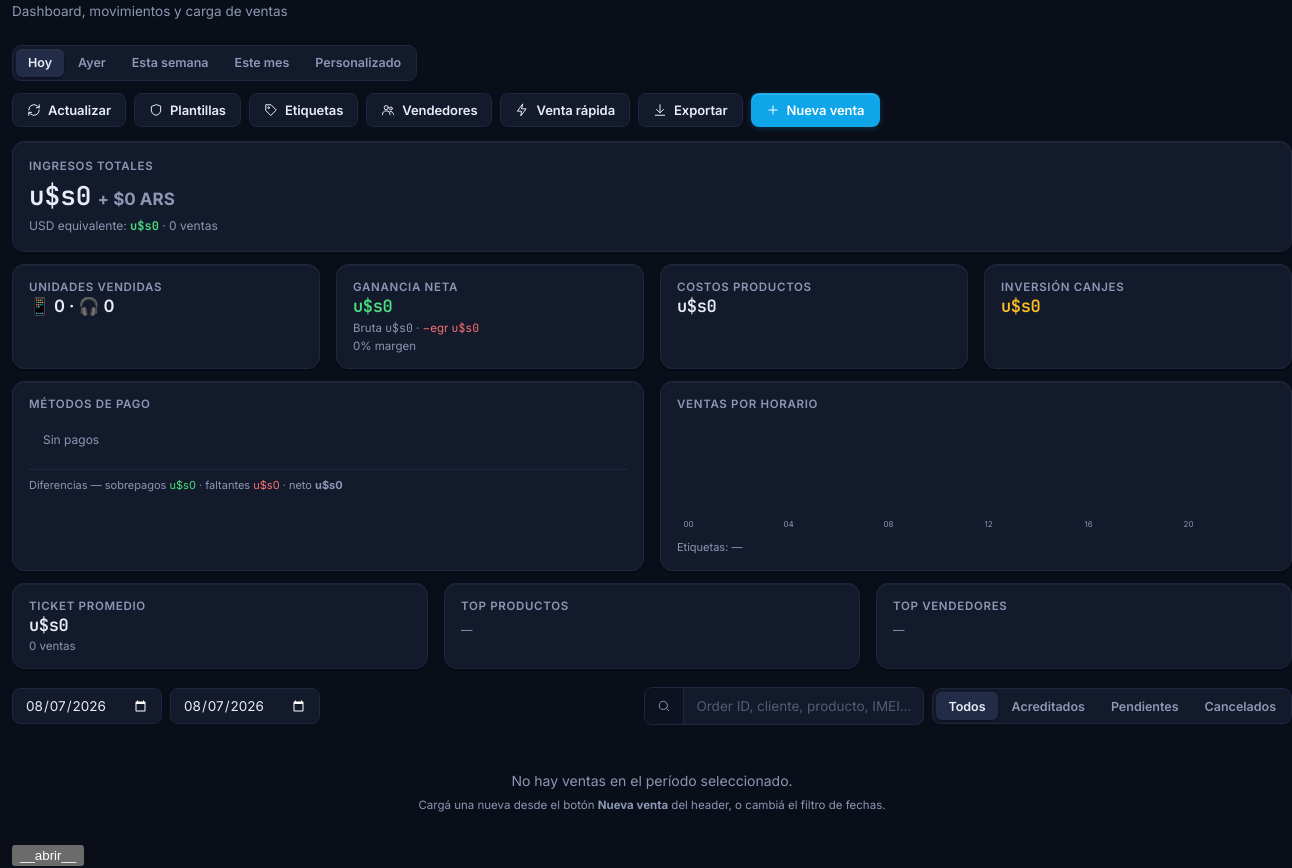
Test case: Pantalla Ventas › F-07 — filtros persisten en URL › tipear en el buscador agrega ?q=...
This screenshot has width=1292, height=868.
Type "iphone" into the field with placeholder "Order ID, cliente, producto, IMEI…" at (804, 706), box [684, 688, 923, 724]
(page scrolled)
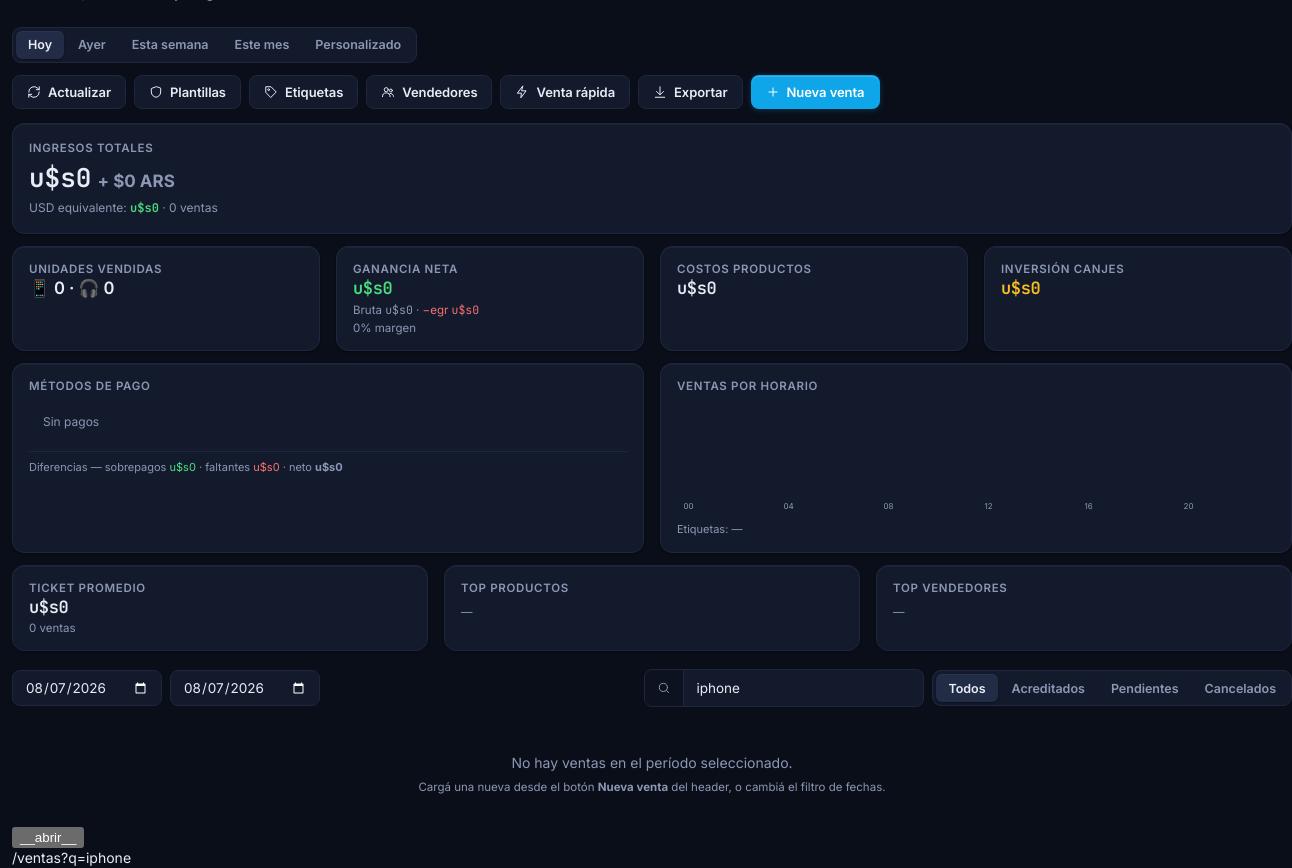
Check: the text with test id "location" reads "/ventas?q=iphone", box [61, 849, 131, 866]
